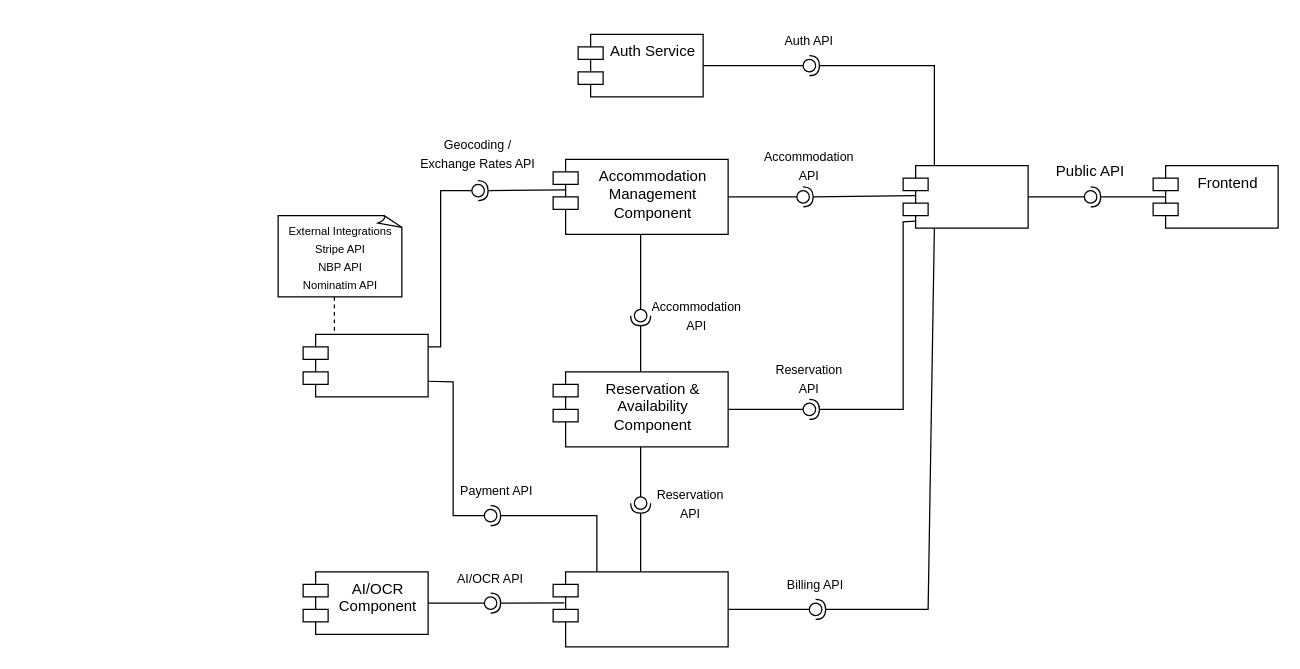
The diagram is 1300 pixels wide and 669 high, and some of its shapes have lost their labels. The centre of each missing label's shape, as x and y in pixels:
API Gateway: pixel 965 196
Billing & Settlement Component: pixel 640 609
External Services: pixel 365 365
